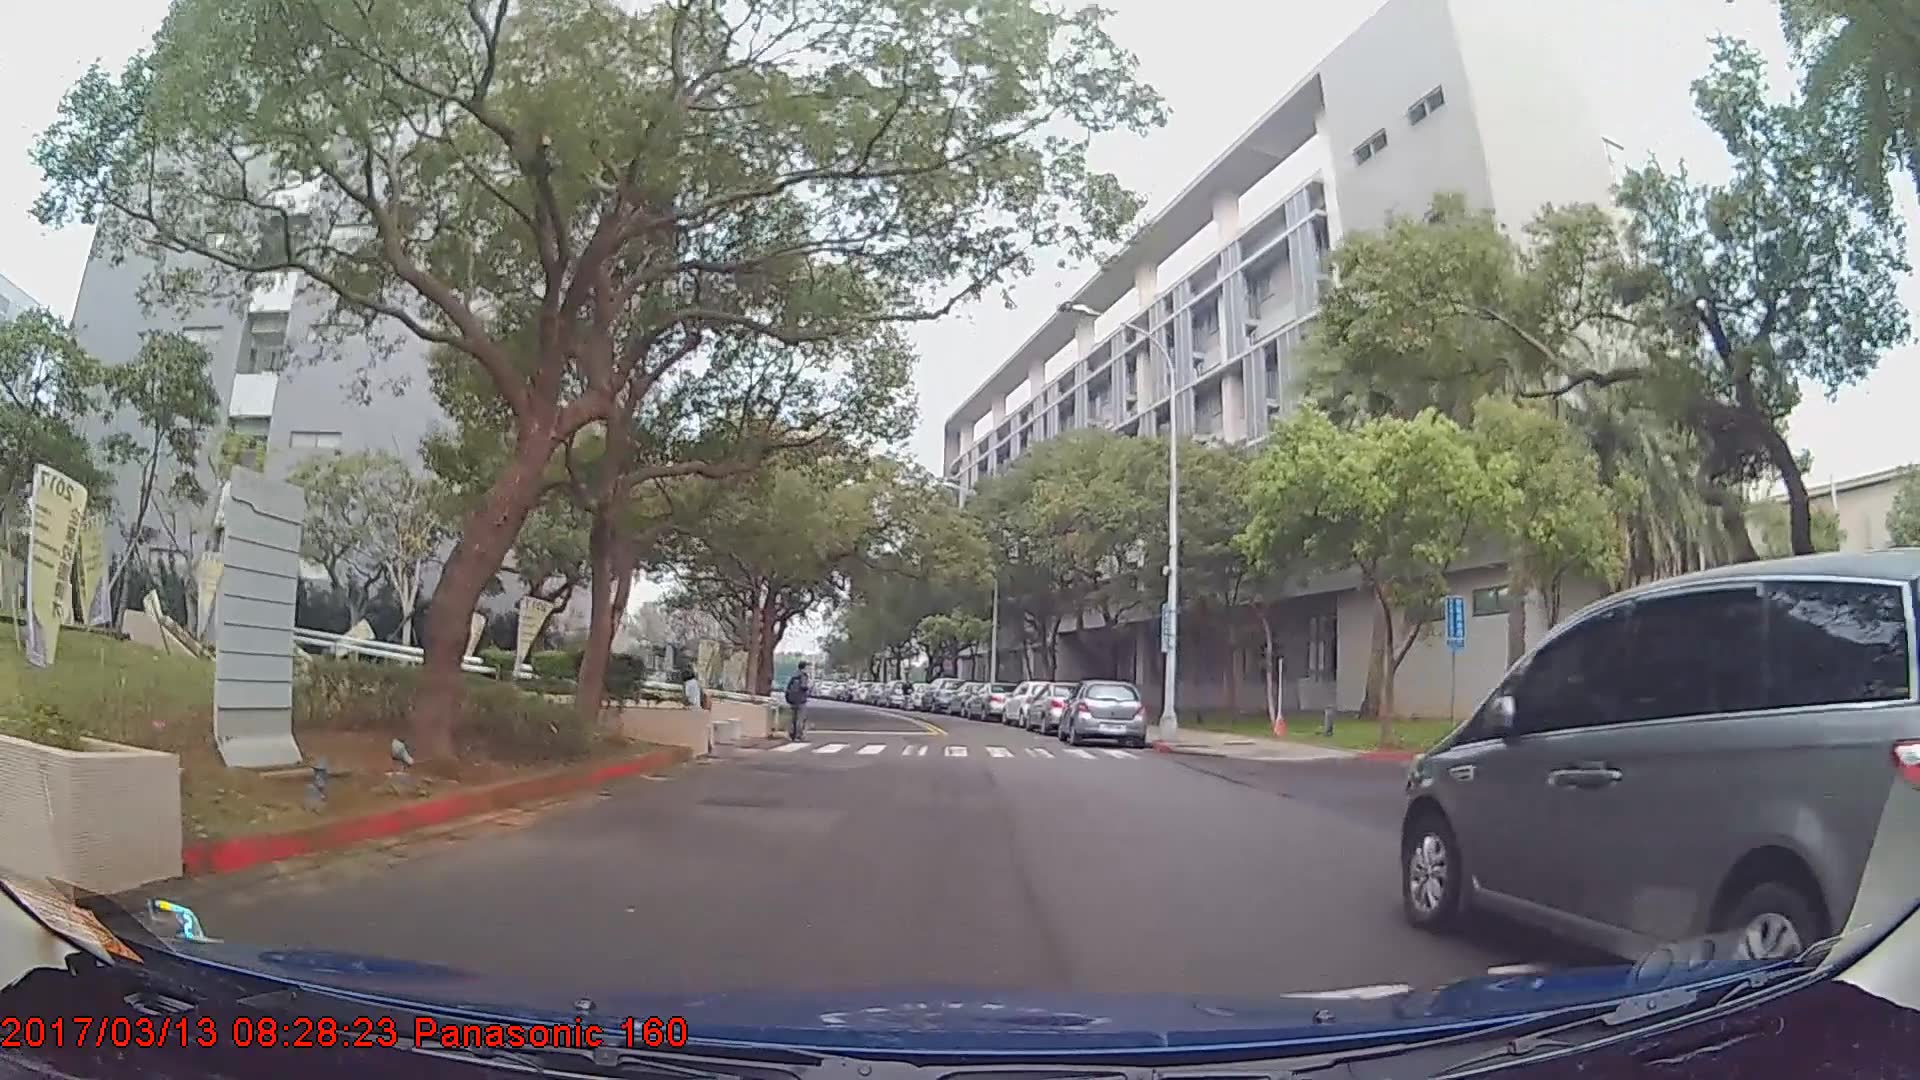pedestrian: (675, 670, 713, 754), (786, 661, 816, 748)
vehicle: (1398, 552, 1920, 987), (1062, 679, 1145, 748), (1021, 679, 1101, 733), (997, 678, 1064, 731), (965, 682, 1014, 720), (920, 677, 963, 713)
